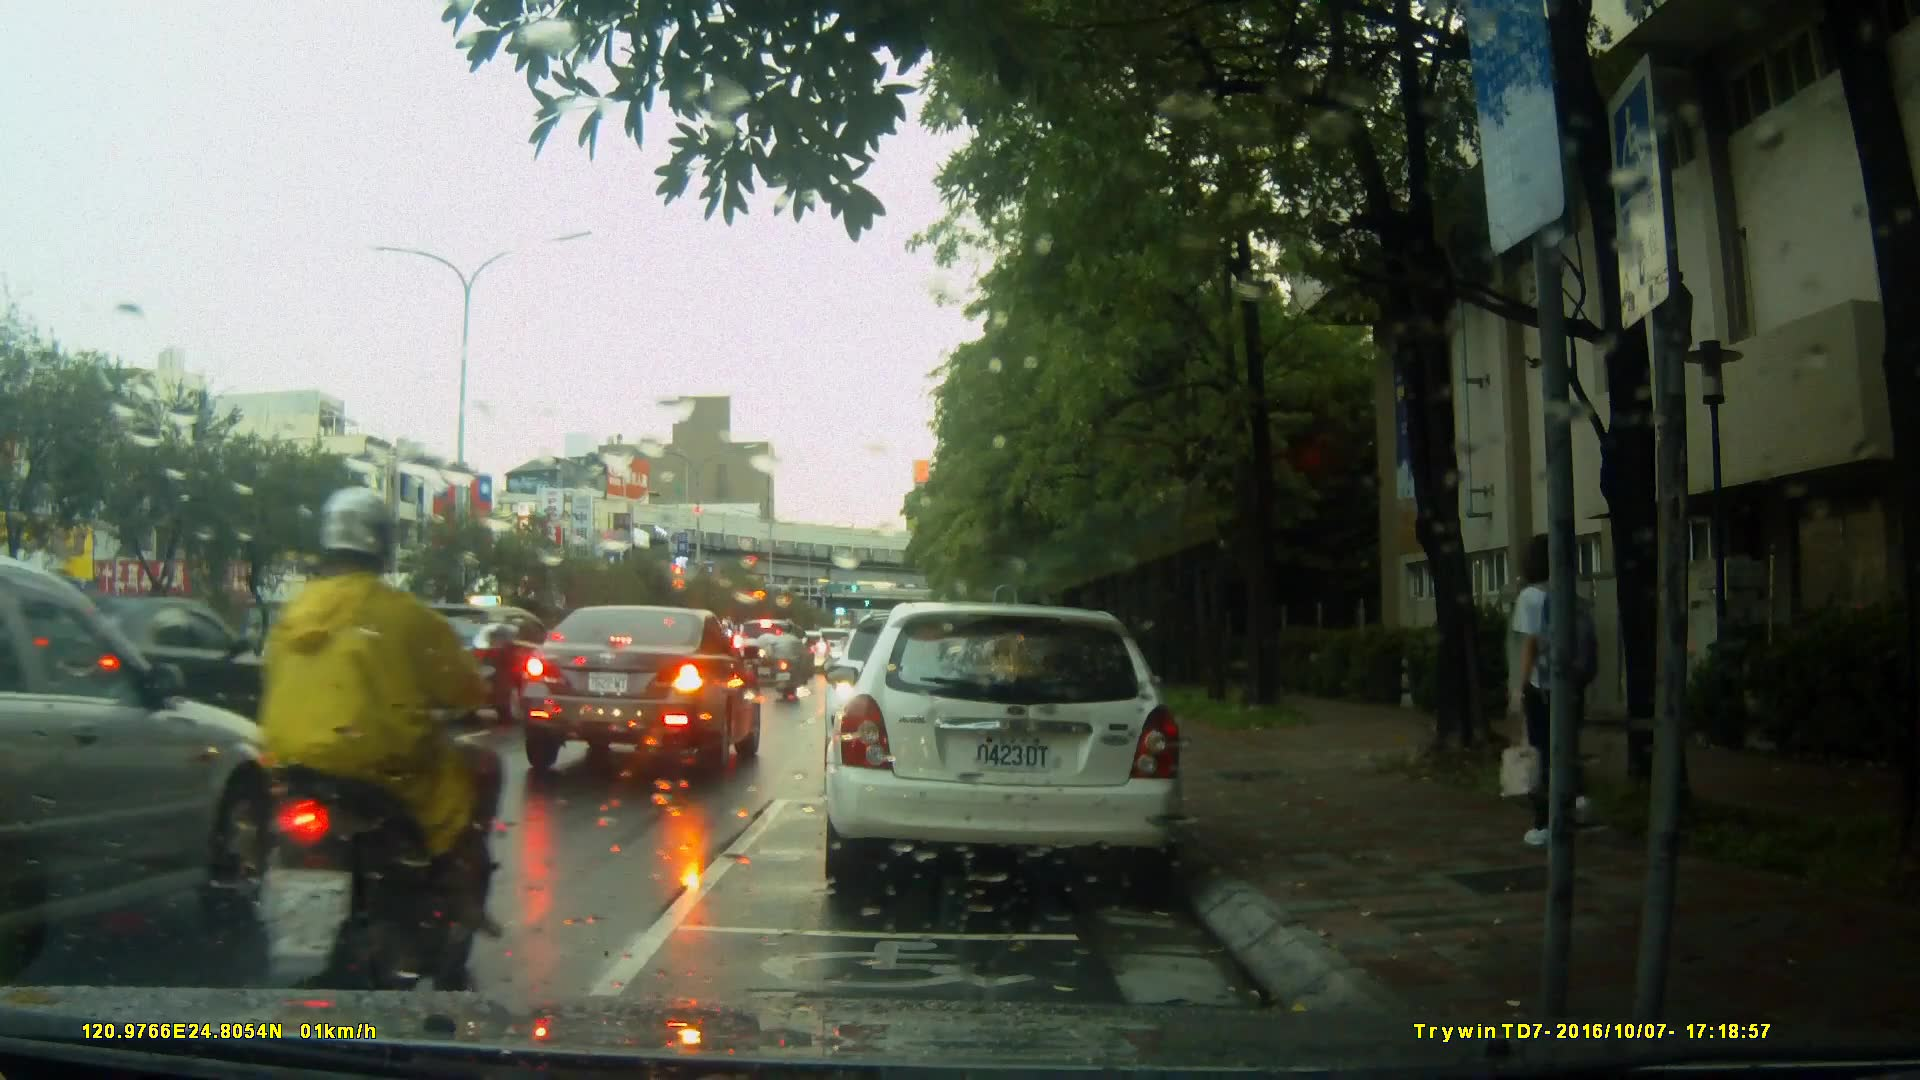pedestrian: (1490, 524, 1605, 854)
rider: (248, 489, 517, 1005), (768, 617, 801, 701)
vehicle: (1, 551, 304, 988), (820, 602, 1188, 898), (511, 603, 766, 779), (15, 599, 299, 755), (734, 620, 814, 690)
